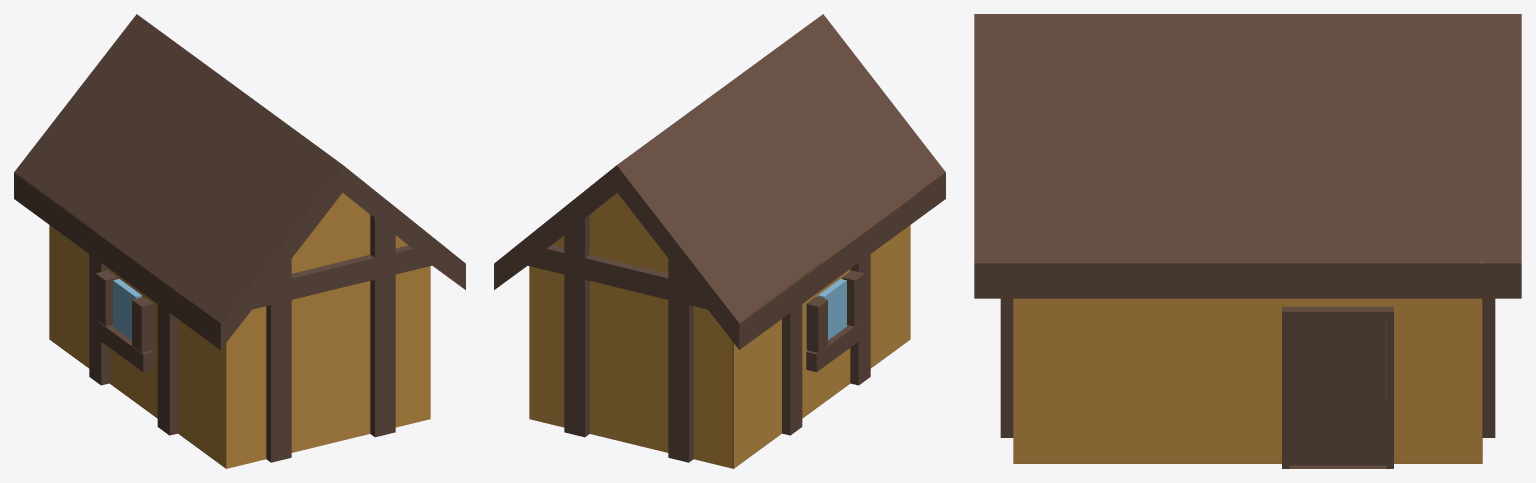
File: house_v4.glb
The picture shows the model from 3 angles, left to right: view 1: azimuth 30°, elevation 25°; view 2: azimuth 150°, elevation 25°; view 3: azimuth 270°, elevation 25°; orthographic projection. The views are drawn at different scales.
Visible parts, largest first — view 1: Cube; view 2: Cube; view 3: Cube.
Part boxes in pixels (left/top/right/bottom): Cube: left=14, top=14, right=465, bottom=468; Cube: left=494, top=14, right=945, bottom=468; Cube: left=974, top=14, right=1521, bottom=468.
Size of the model in its own units: 2.4 by 2.71 by 3.5.
Materials: 3 (3 with a texture image).
